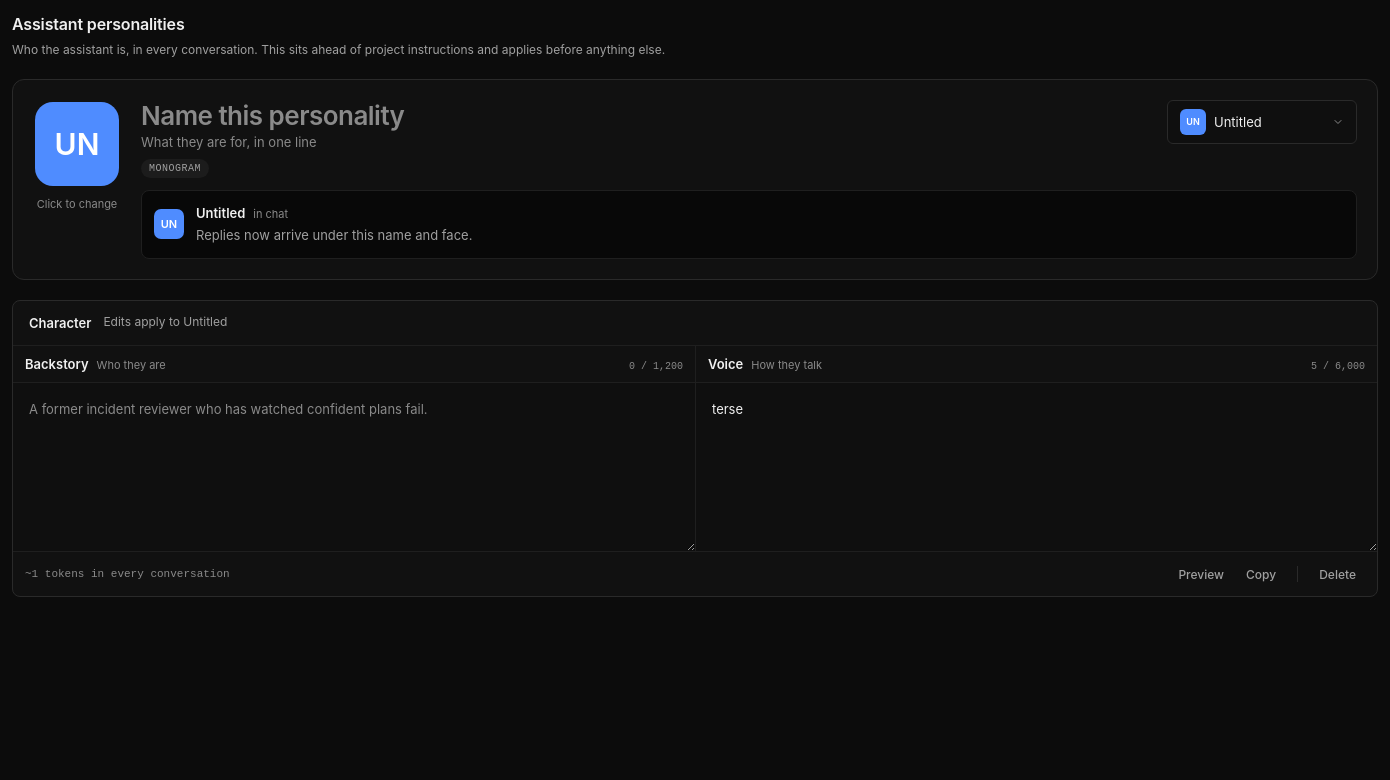
Scenario: making one of your own › will not save something unnamed, and says why
// Typing is what marks it dirty and reveals the save bar.
Replace the text in the text box with placeholder "former incident reviewer" with "A backstory.": (354, 467) [13,383,695,551]
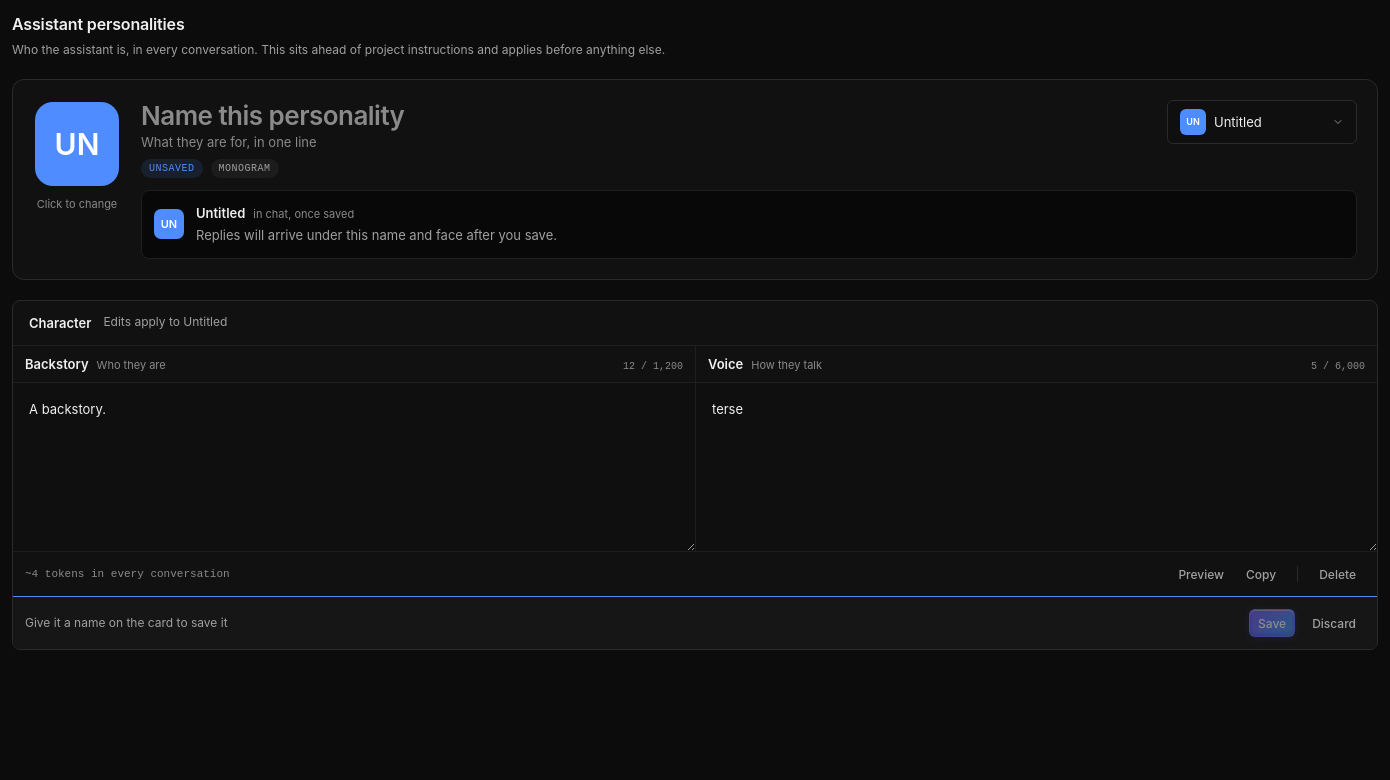
expect the text "Give it a name on the card to save it" is shown: met, box [25,615,228,630]
expect the button "Save" is disabled: met, box [1249,609,1295,637]
